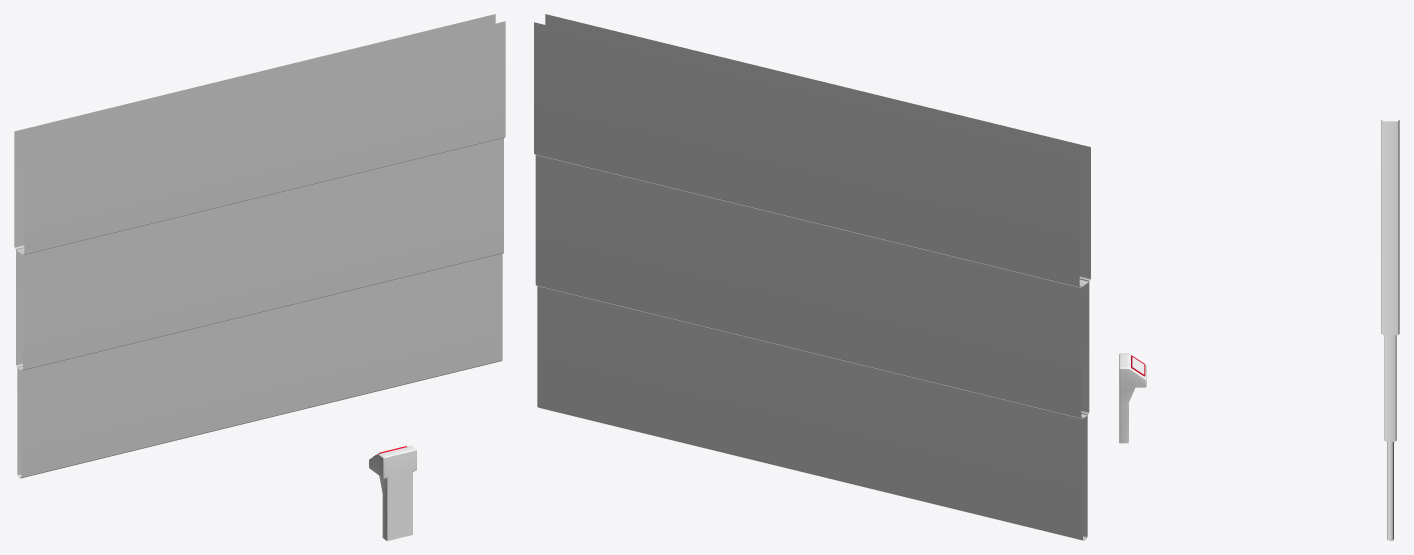
The model's file is LargeDoorIndustrial.fbx.
3 renders of one model, left to right at view 1: azimuth 30°, elevation 25°; view 2: azimuth 150°, elevation 25°; view 3: azimuth 270°, elevation 25°, orthographic. The views are drawn at different scales.
Parts seen in each view (by area): view 1: LargeDoor_Open, SonsoleMain; view 2: LargeDoor_Open; view 3: LargeDoor_Open, SonsoleMain.
Boxes of the visible parts, box(x1,y1,x2,y2) form: LargeDoor_Open: box(14, 14, 505, 478); SonsoleMain: box(369, 446, 416, 540); LargeDoor_Open: box(534, 14, 1090, 540); LargeDoor_Open: box(1381, 120, 1399, 540); SonsoleMain: box(1119, 353, 1146, 443).
Bounding box in the file's own units: 561 × 391 × 310.
